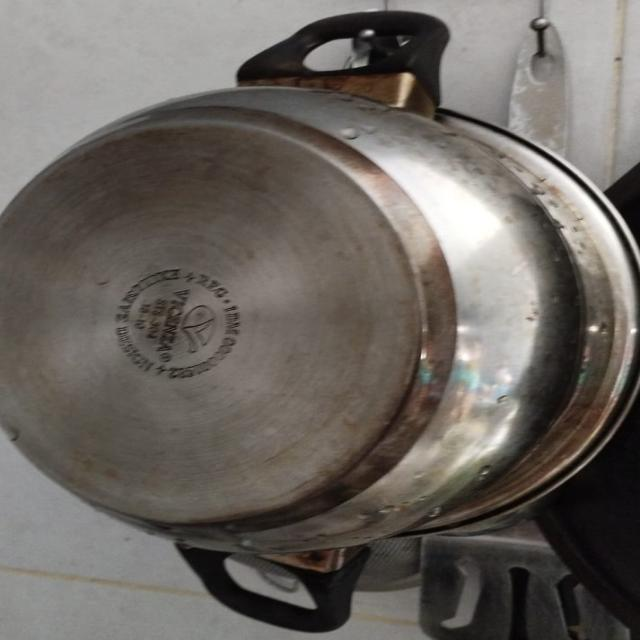Anorganik: (0, 72, 640, 574)
